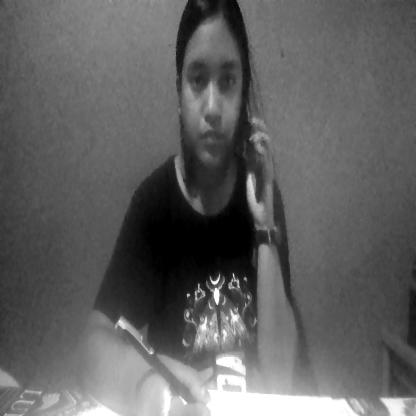Normal: (174, 7, 244, 156)
